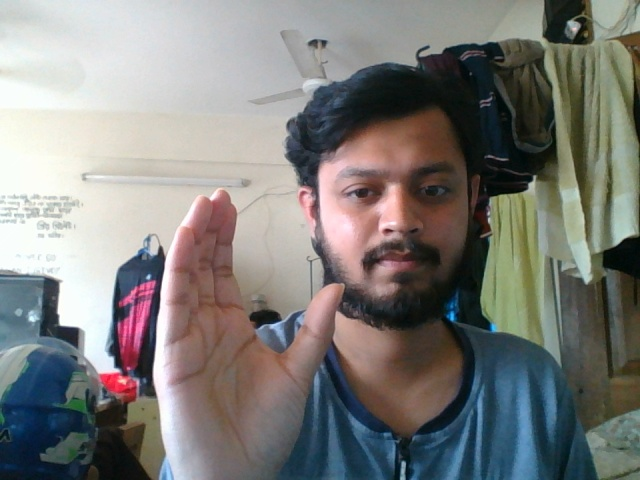o: (155, 182, 359, 480)
